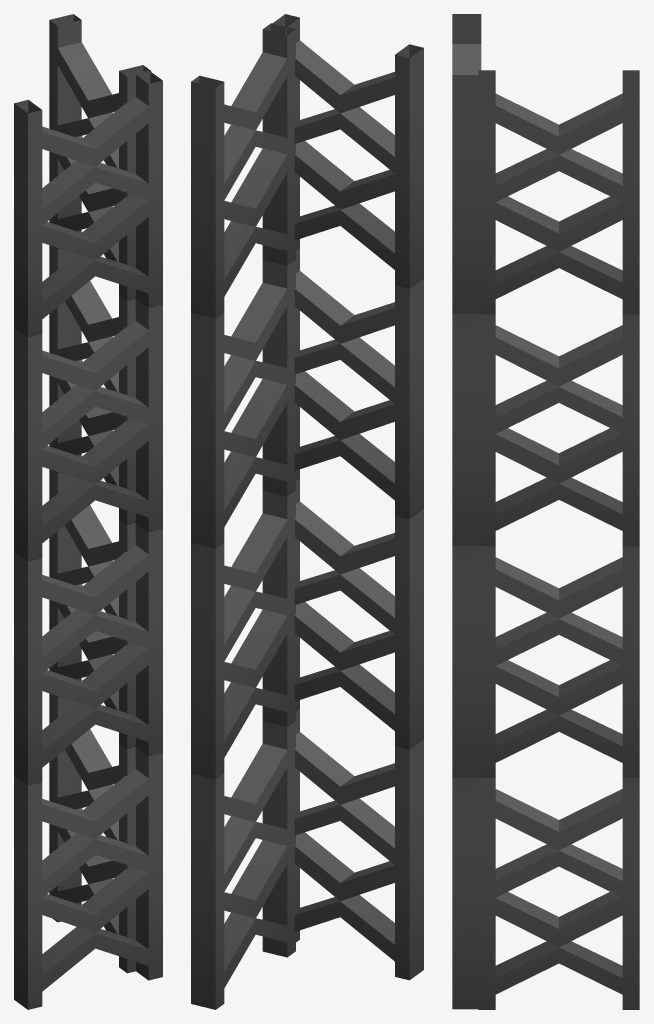
The model's file is sup_beam_2.fbx.
3 renders of one model, left to right at view 1: azimuth 30°, elevation 25°; view 2: azimuth 150°, elevation 25°; view 3: azimuth 270°, elevation 25°, orthographic. The views are drawn at different scales.
Visible parts, largest first — view 1: sup_beam_2; view 2: sup_beam_2; view 3: sup_beam_2.
Boxes of the visible parts, x1,y1,x2,y2 form: sup_beam_2: [14, 14, 162, 1009]; sup_beam_2: [191, 14, 423, 1009]; sup_beam_2: [452, 14, 639, 1009].
Bounding box in the file's own units: 5.6 × 35.25 × 6.45.
1 material, 1 textured.
